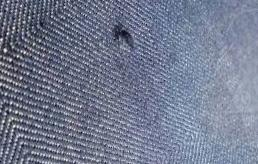knot: (115, 27, 136, 54)
